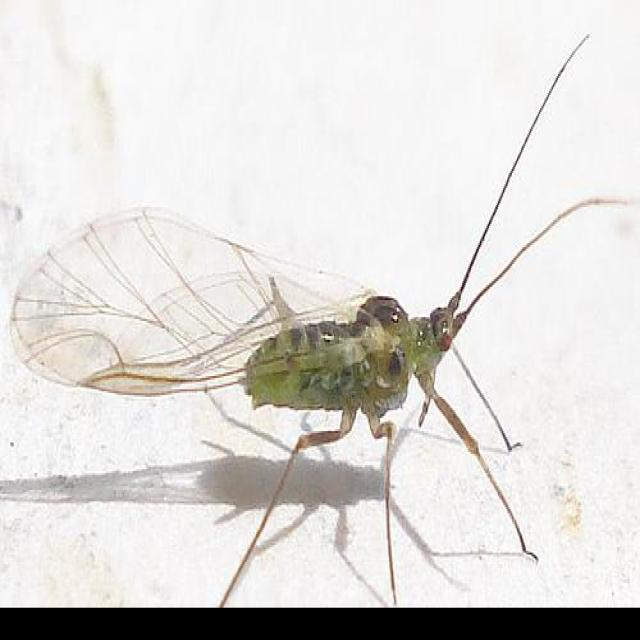Aphids: (6, 121, 631, 590)
